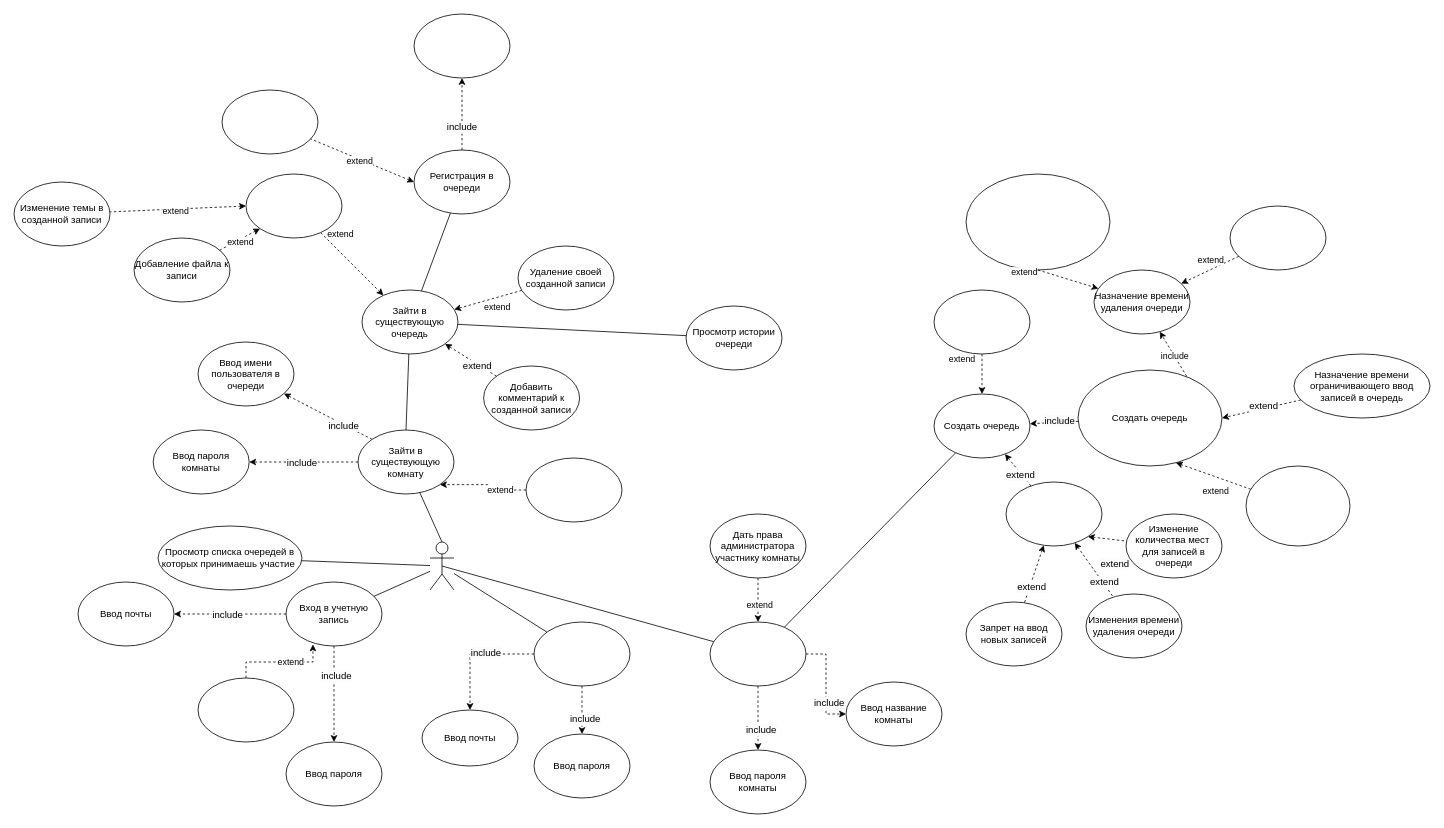
The diagram is 1444 pixels wide and 828 high, and some of its shapes have lost their labels. The centre of each missing label's shape, as x and y in pixels:
"Cоздать комнату" goes at point (757, 653).
"Автоматически через заданный промежуток времени" goes at point (1037, 221).
"Ввод темы участника" goes at point (461, 45).
"Выйти из комнаты" goes at point (573, 489).
"Добавить файл к записи" goes at point (269, 121).
"Изменение пароля" goes at point (245, 709).
"Назначенияе количества мест для записей в очереди" goes at point (1297, 505).
"Не удалять очередь вовсе" goes at point (1277, 237).
"Пользователь" goes at point (441, 565).
"Регистрация" goes at point (581, 653).
"Редактирование очереди" goes at point (1053, 513).
"Редактирование своей созданной записи" goes at point (293, 205).
"Удалить очередь" goes at point (981, 321).
